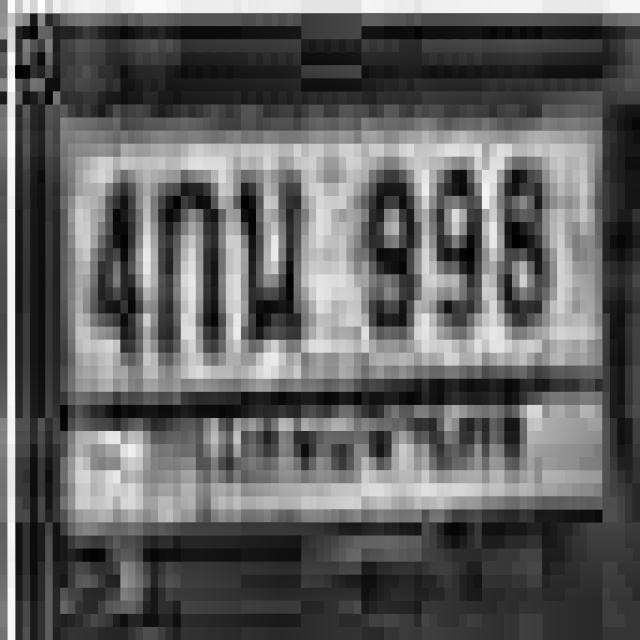license-plate: (35, 64, 618, 596)
